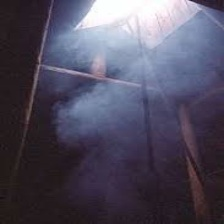smoke: (83, 29, 168, 175)
